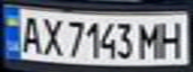1: (81, 19, 100, 58)
3: (115, 19, 139, 60)
4: (100, 19, 118, 60)
7: (63, 17, 84, 57)
A: (15, 12, 45, 55)
H: (157, 17, 190, 59)
M: (136, 19, 163, 60)
X: (36, 15, 63, 56)
